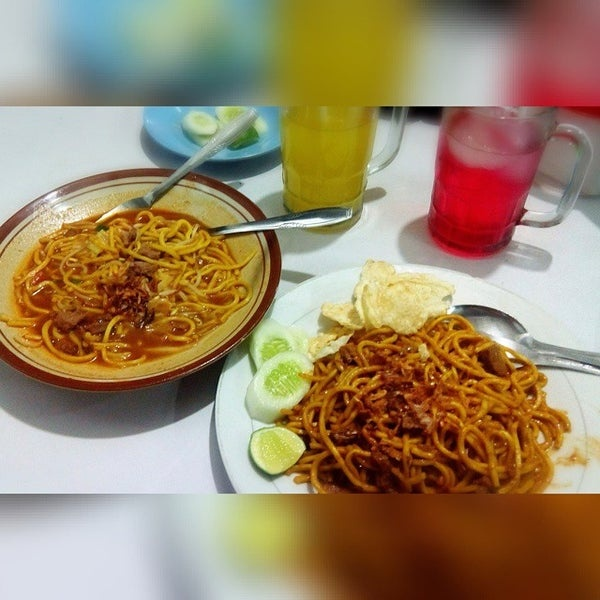mie_aceh: (293, 314, 567, 495), (12, 209, 240, 371)
